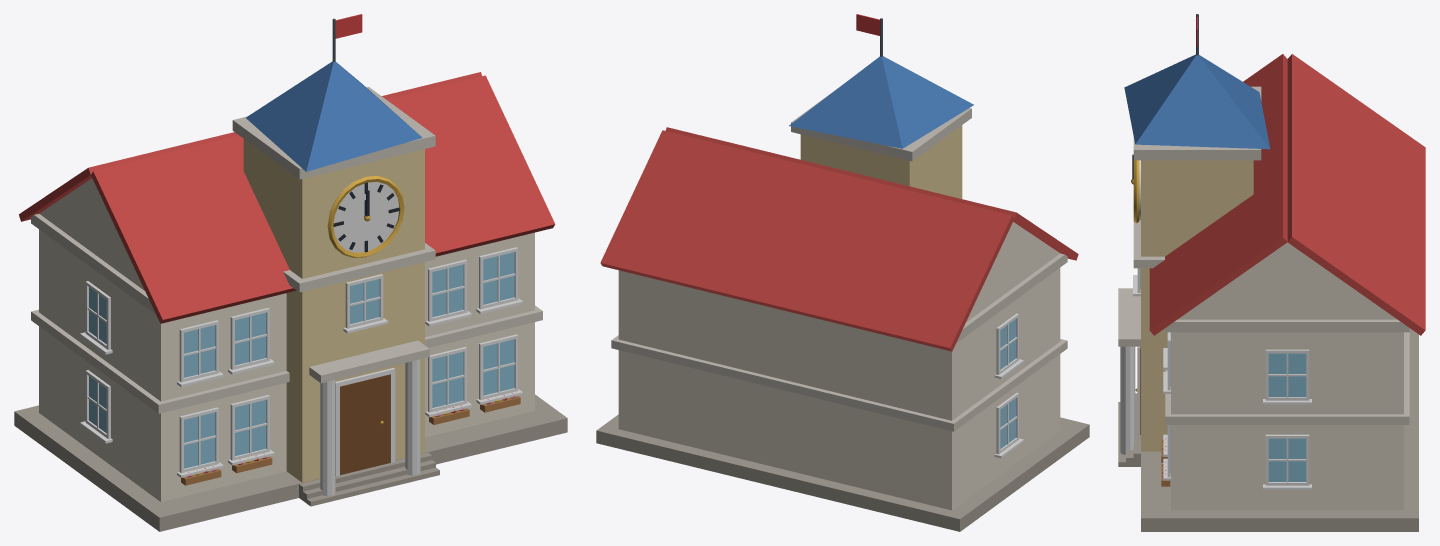
File: townhall.gltf
3 renders of one model, left to right at view 1: azimuth 30°, elevation 25°; view 2: azimuth 150°, elevation 25°; view 3: azimuth 270°, elevation 25°, orthographic. The views are drawn at different scales.
Parts seen in each view (by area): view 1: townhall; view 2: townhall; view 3: townhall.
Part boxes in pixels (<box>): townhall: <box>14,14,567,531</box>; townhall: <box>596,14,1089,531</box>; townhall: <box>1118,14,1425,531</box>.
Bounding box in the file's own units: 12 × 12.4 × 8.17.
